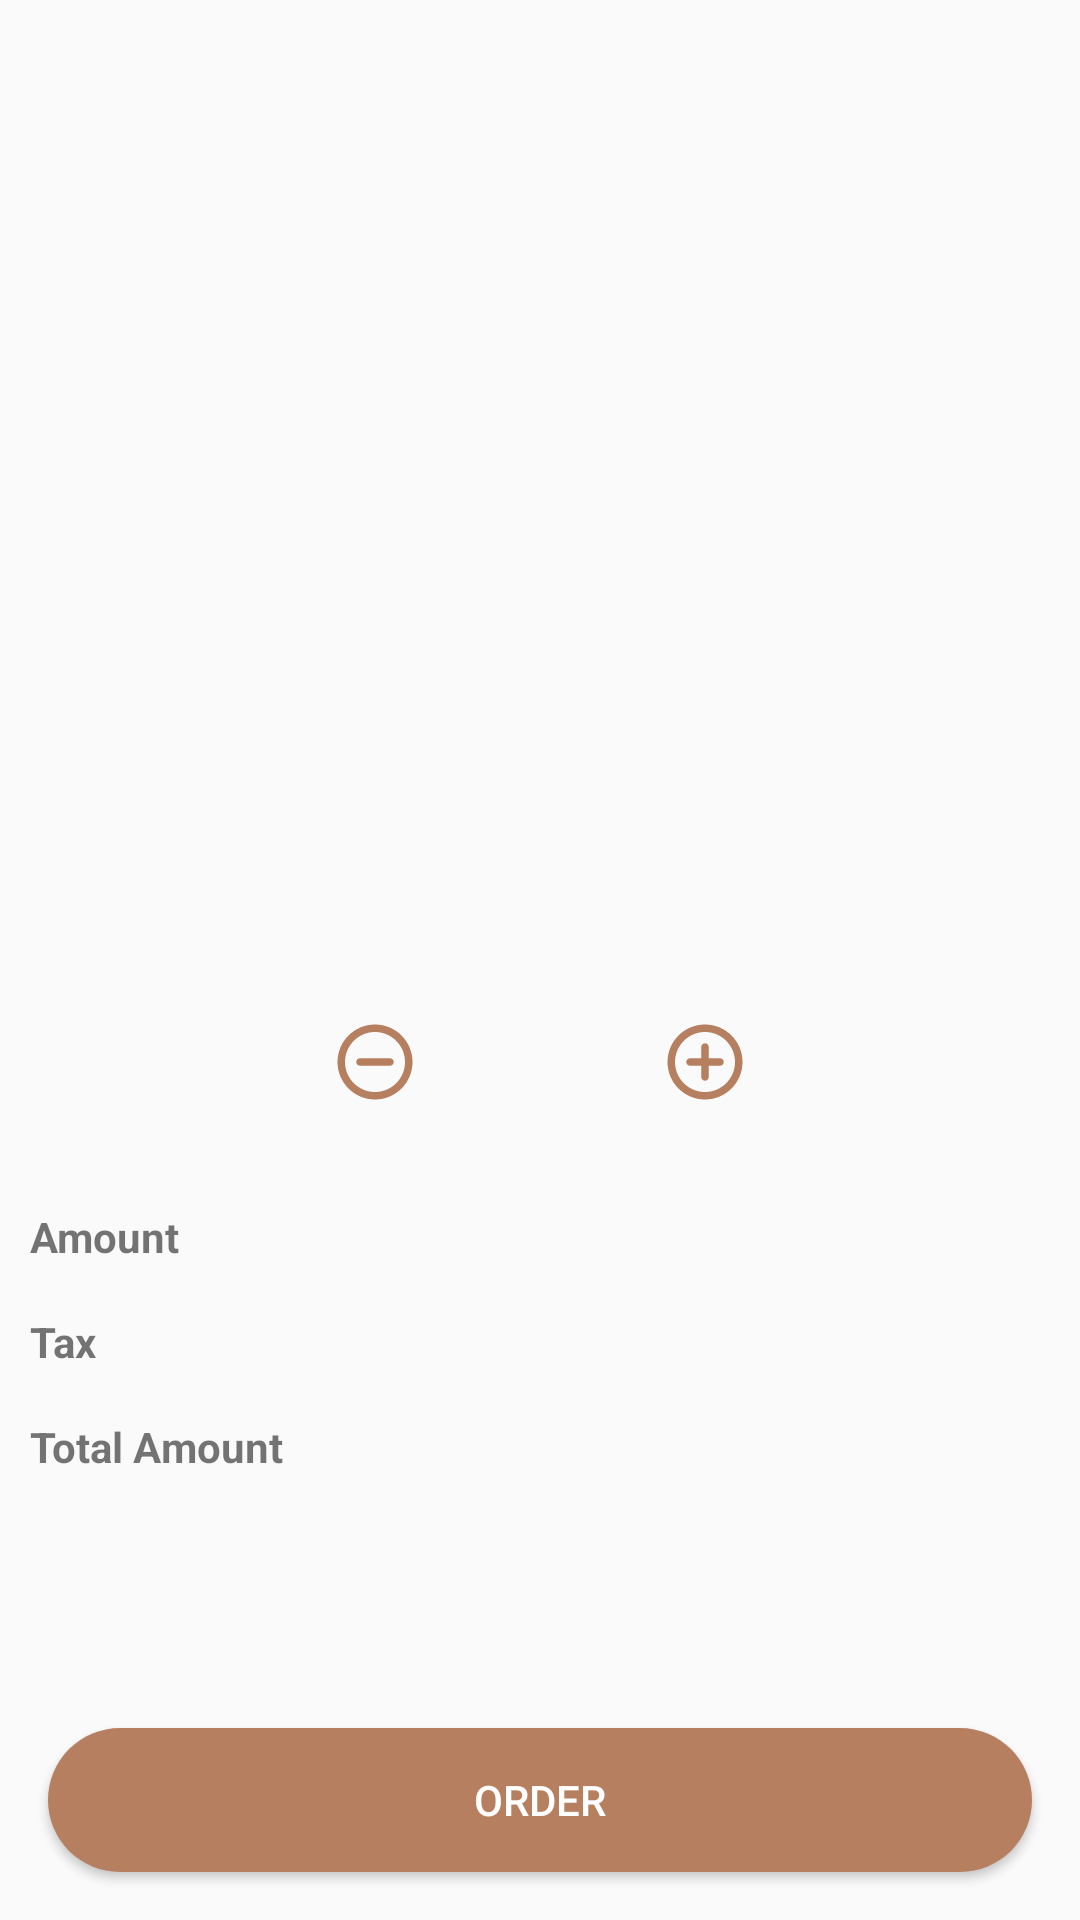

Icon click points for this 1080px×1920px phone screenshot, format point (x, y):
add: point (705, 1062)
remove: point (375, 1062)
